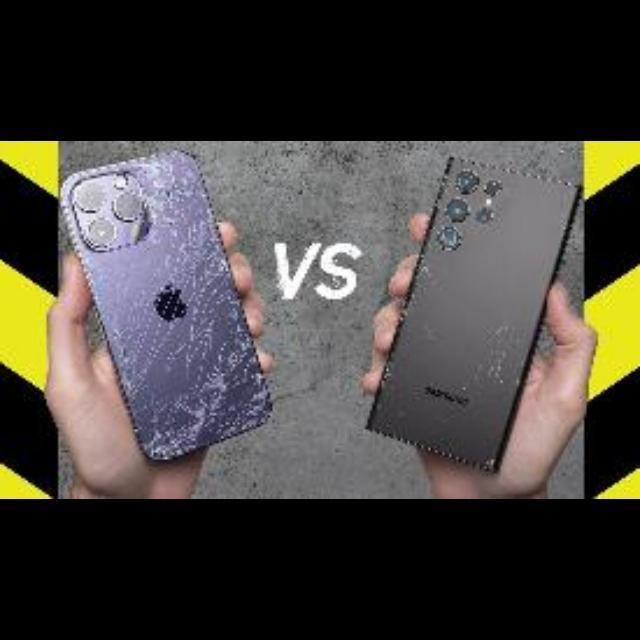PhoneUse: (61, 144, 270, 482), (394, 151, 584, 467)
